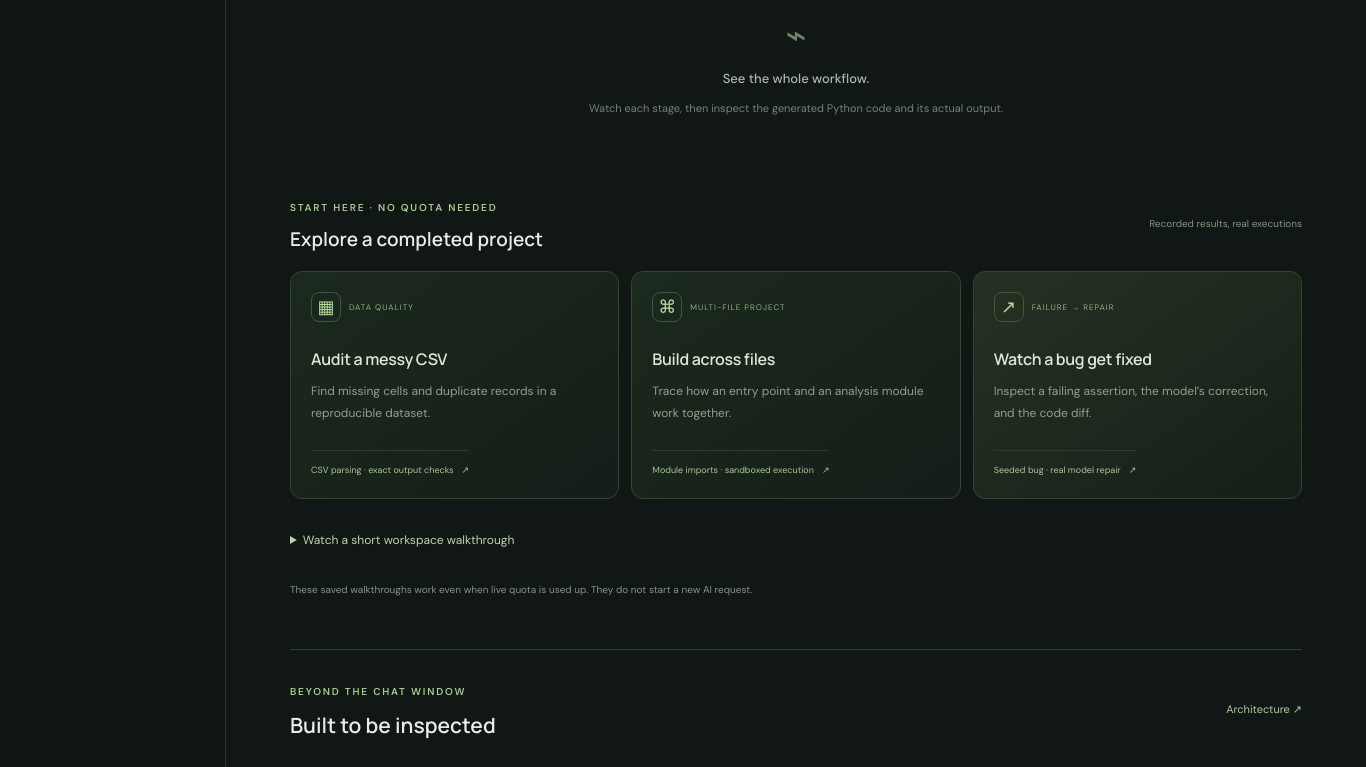
Test: recorded examples remain available without live quota and do not call the model endpoint
The width and height of the screenshot is (1366, 767).
(page scrolled)
Click the button "Watch a bug get fixed" at (1137, 385), box [973,271,1302,499]
(page scrolled)
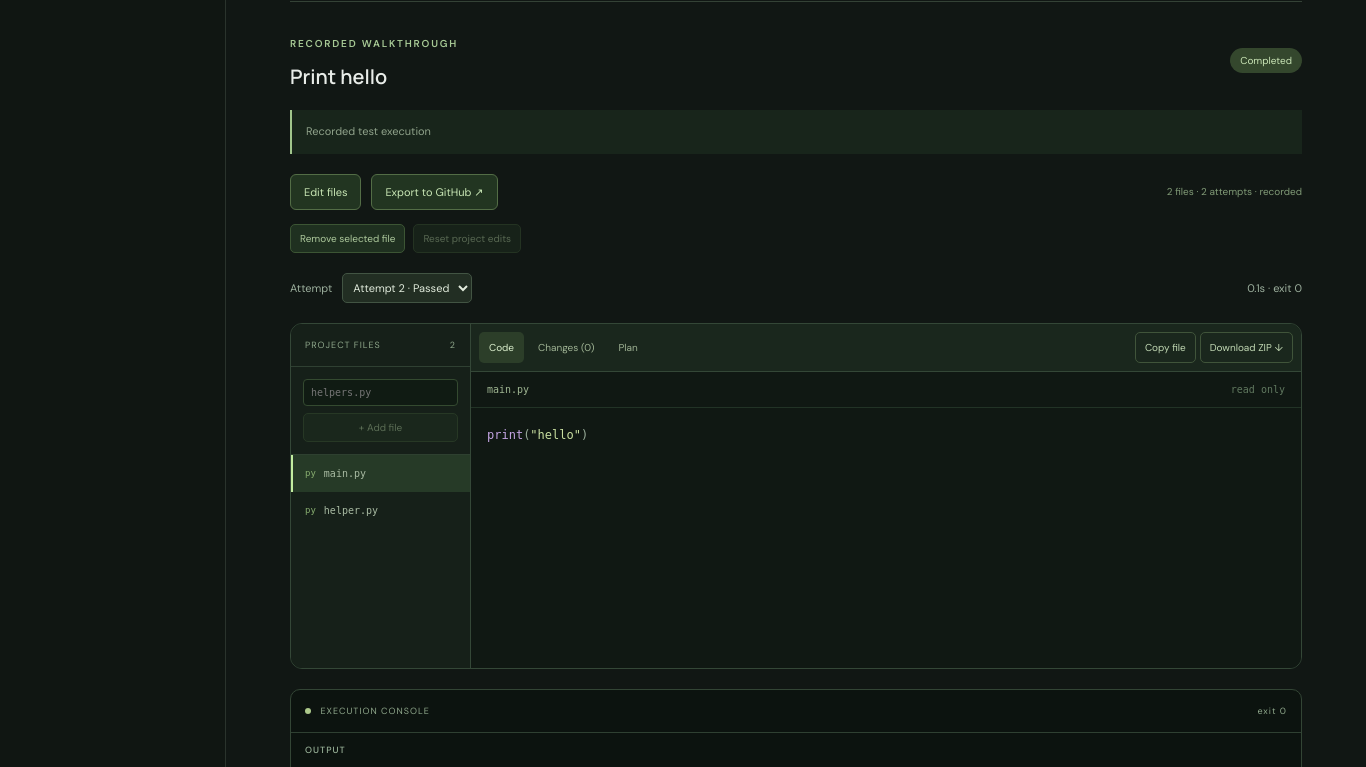
Check: the text "Recorded test execution" is shown, box [290,110,1302,154]
Check: the text "RECORDED WALKTHROUGH" is shown, box [290,37,458,50]
